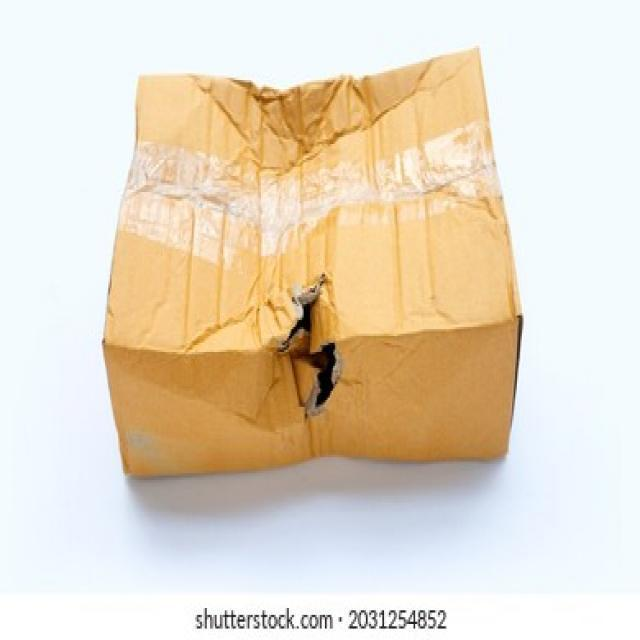damaged: (279, 276, 348, 414)
